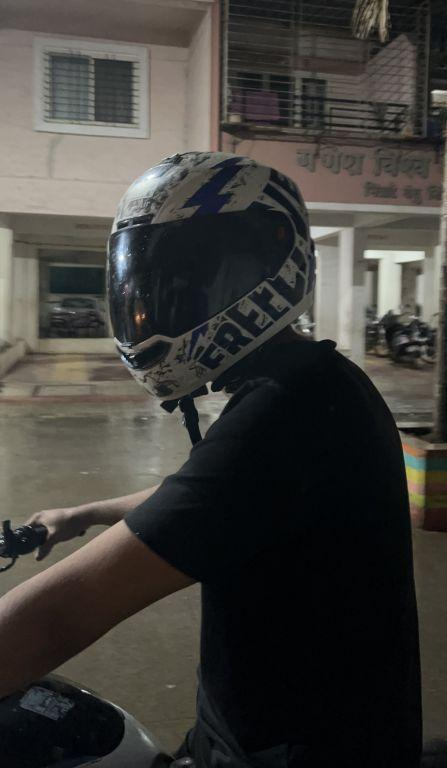helmet: (102, 140, 323, 407)
